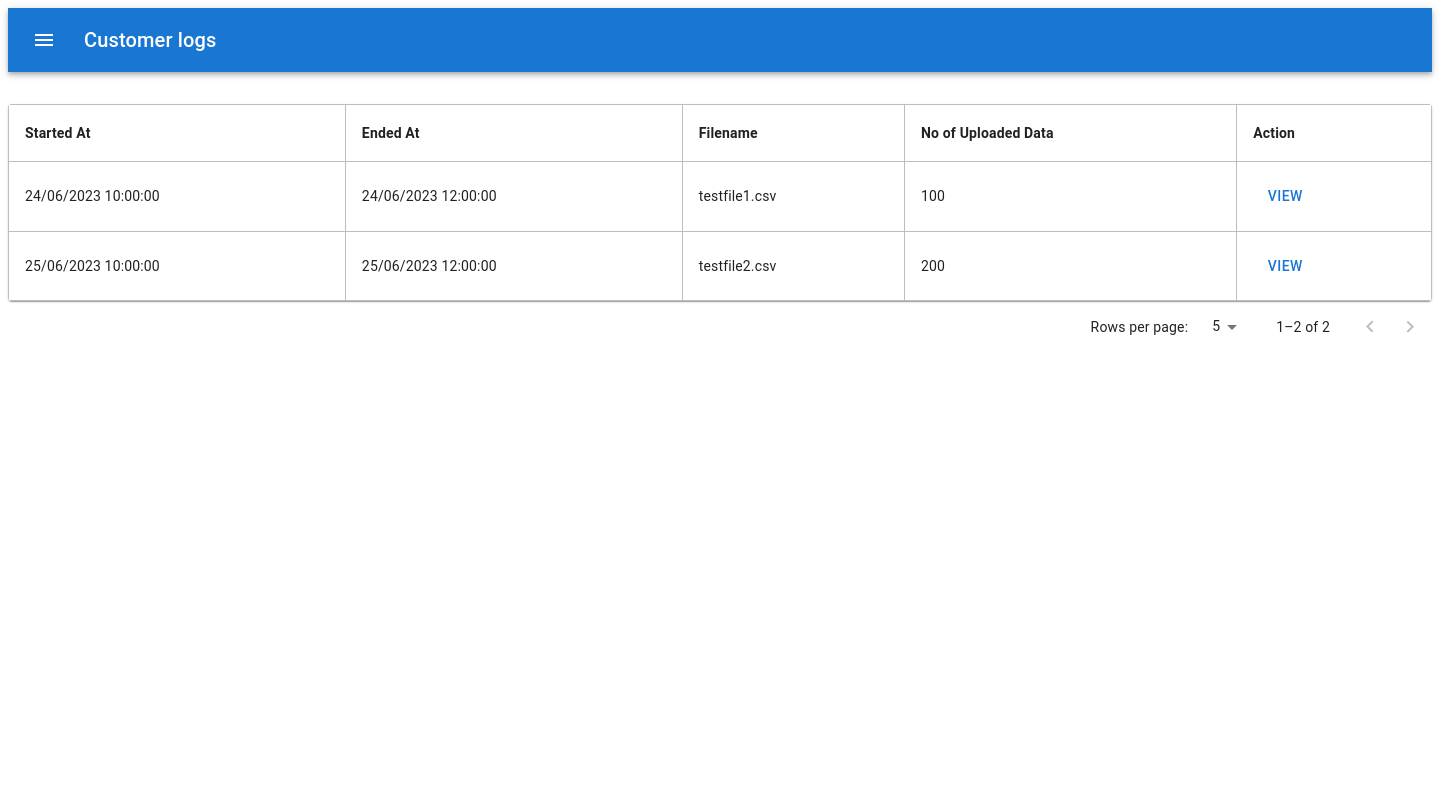
Test: BulkListing Component › hides error data on 'Hide Error Data' button click
Expected: the text "testfile1.csv" is shown, x1=682 y1=162 x2=904 y2=231
Click the button "View" in the row of "24/06/2023 10:00:00": (1285, 196) x1=1253 y1=178 x2=1317 y2=214
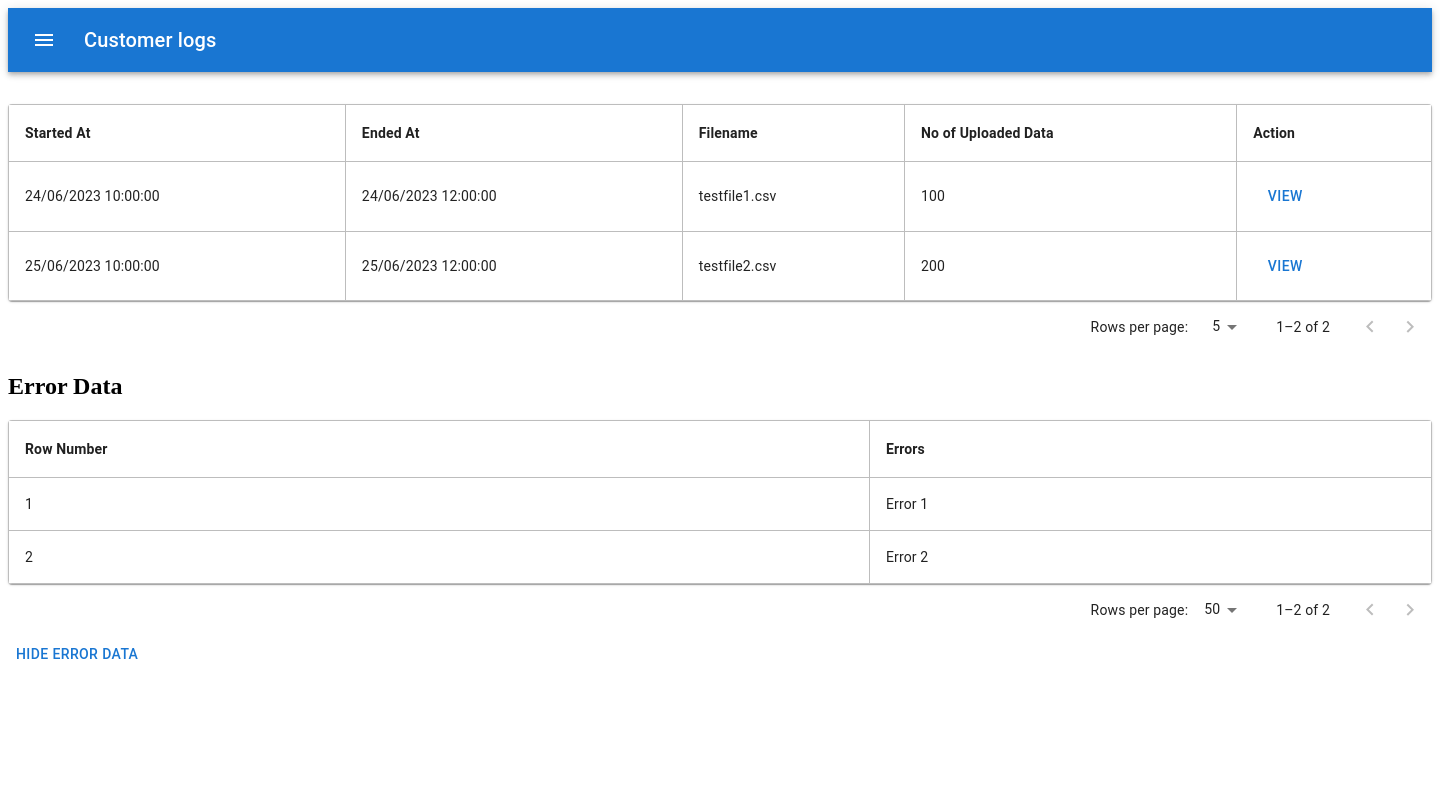
Result: the heading "Error Data" is shown at x1=8 y1=373 x2=122 y2=399
Click the button "Hide Error Data": (77, 654) x1=8 y1=636 x2=146 y2=672
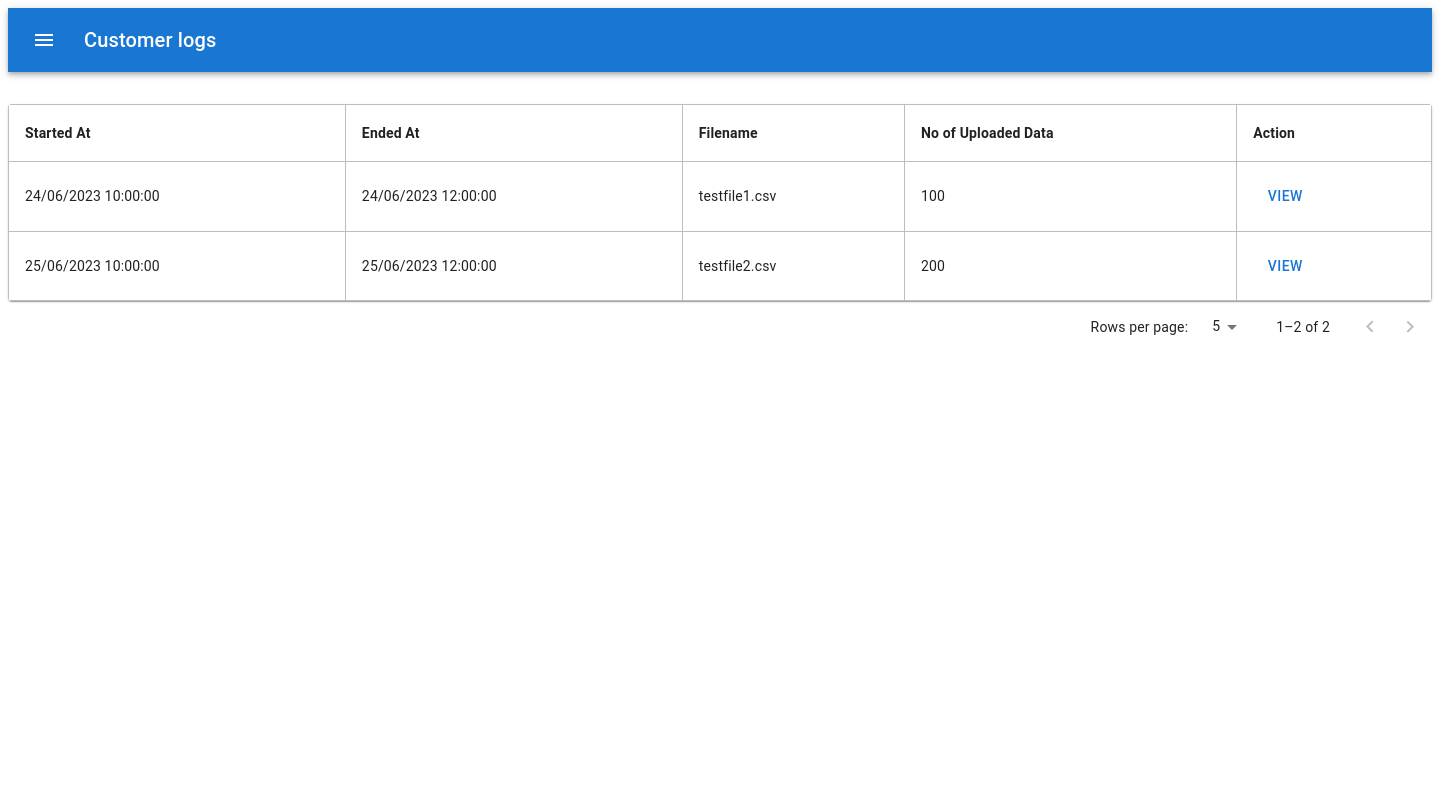
Result: the heading "Error Data" is gone
